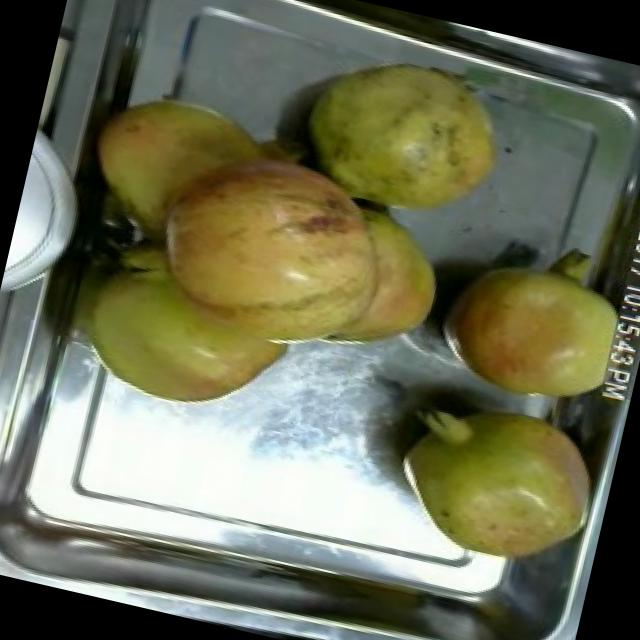fruit: (270, 26, 539, 249), (364, 374, 616, 596), (422, 233, 640, 431)
